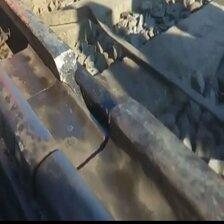railway-gap: (18, 30, 159, 180)
